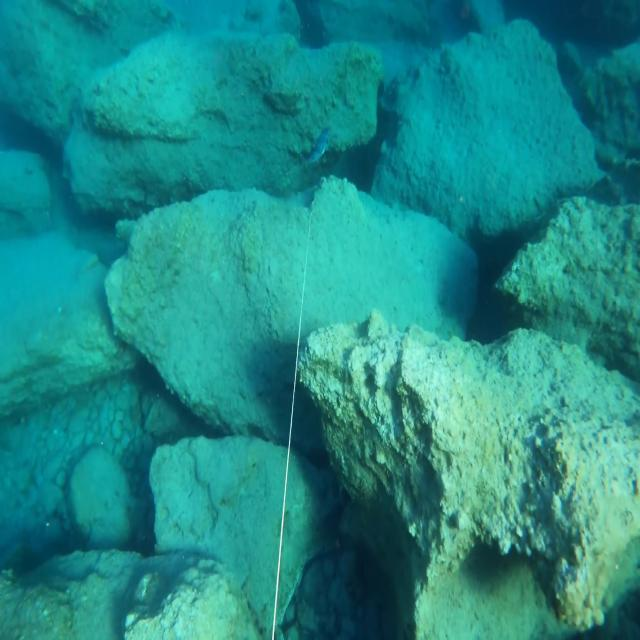Balon Baligi: (300, 126, 330, 170)
